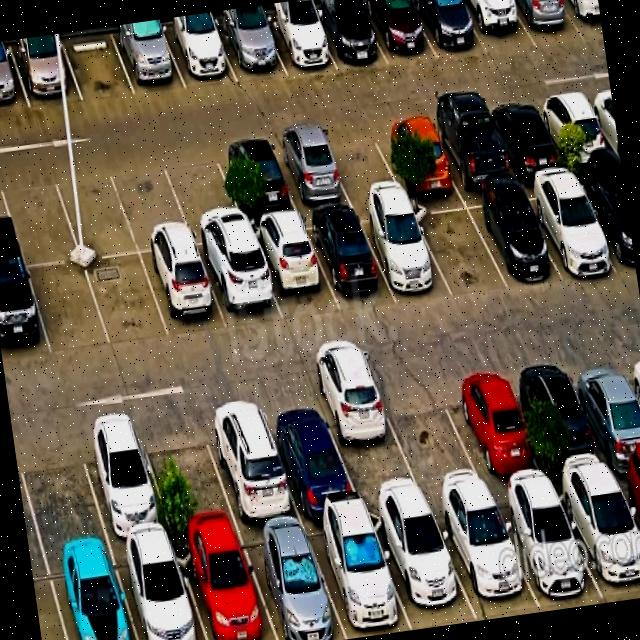empty: (378, 375, 490, 503), (136, 412, 239, 538), (320, 386, 426, 507), (13, 425, 108, 556), (410, 196, 508, 297), (160, 146, 248, 246), (51, 162, 139, 260), (110, 156, 194, 253), (85, 254, 170, 347), (0, 169, 81, 266), (28, 262, 111, 356), (319, 124, 403, 202), (61, 30, 135, 101)
occupied: (492, 486, 603, 609), (430, 495, 540, 619), (304, 513, 412, 639), (368, 506, 477, 629), (442, 366, 548, 492), (199, 398, 301, 528), (238, 524, 347, 640), (74, 418, 173, 545), (260, 395, 362, 518), (514, 357, 613, 482), (173, 531, 277, 640), (553, 474, 640, 603), (518, 174, 619, 278), (462, 188, 560, 288), (248, 217, 339, 323), (112, 539, 206, 640), (303, 209, 396, 311), (356, 203, 452, 300), (566, 351, 640, 472), (46, 548, 137, 640), (141, 247, 228, 339), (197, 240, 283, 329), (427, 107, 515, 189), (214, 138, 299, 222), (573, 168, 637, 274), (269, 131, 352, 211), (484, 97, 566, 175), (374, 116, 459, 191), (534, 90, 615, 166), (310, 0, 388, 70), (160, 21, 238, 89), (111, 25, 186, 95), (9, 37, 82, 108), (260, 9, 337, 75), (0, 264, 51, 363), (361, 0, 437, 66), (214, 15, 286, 82), (412, 0, 487, 59), (459, 0, 536, 56), (510, 0, 584, 46), (0, 44, 30, 112), (613, 468, 640, 534), (562, 0, 603, 39)
